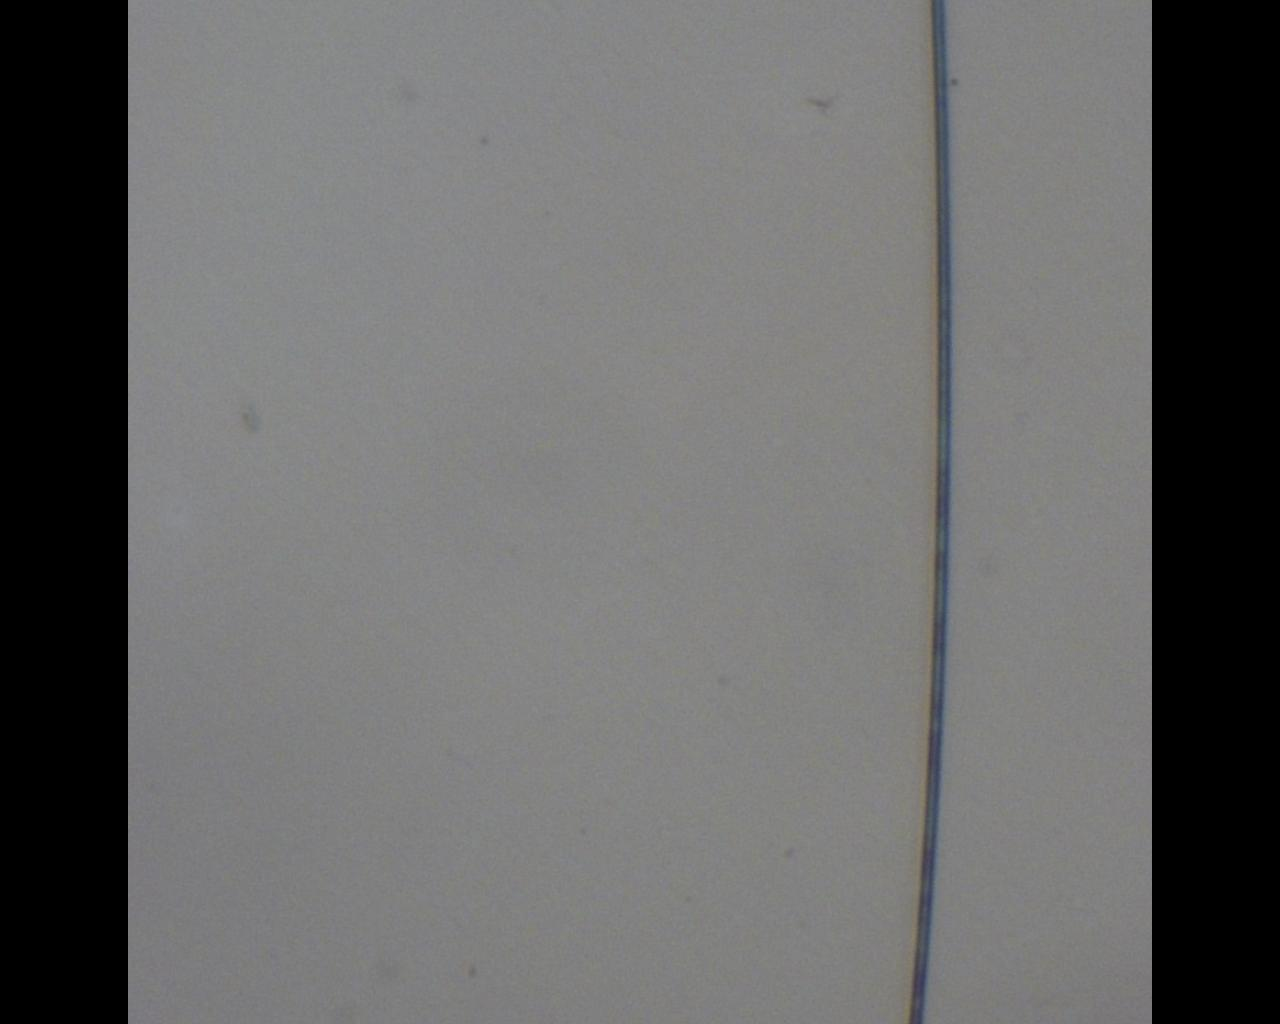fiber: (0, 234, 164, 614), (486, 614, 890, 702), (486, 31, 1192, 82), (0, 835, 486, 887)
